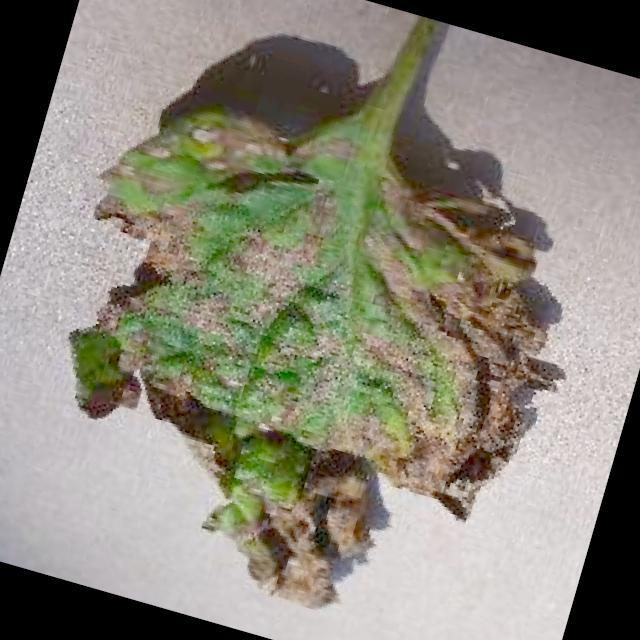Tomato Early blight leaf: (0, 61, 607, 640)
